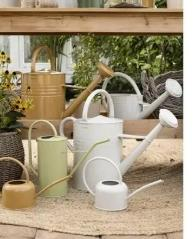ARROSOIR: (0, 43, 182, 210)
